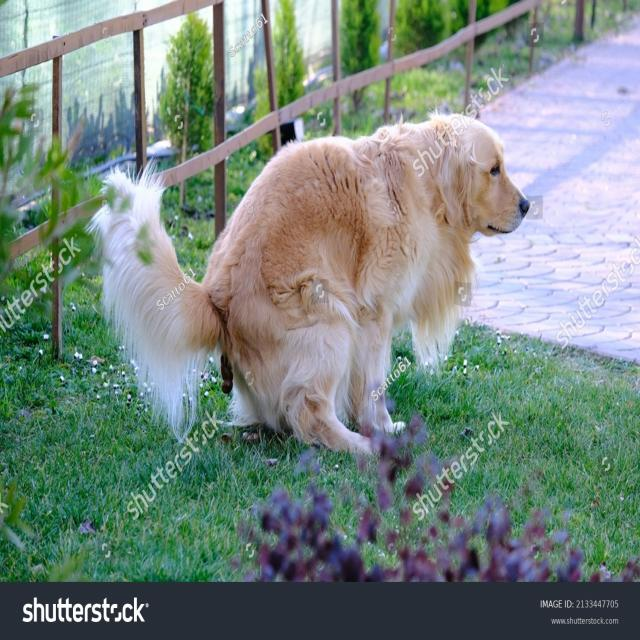Dogpoop: (91, 100, 533, 463)
